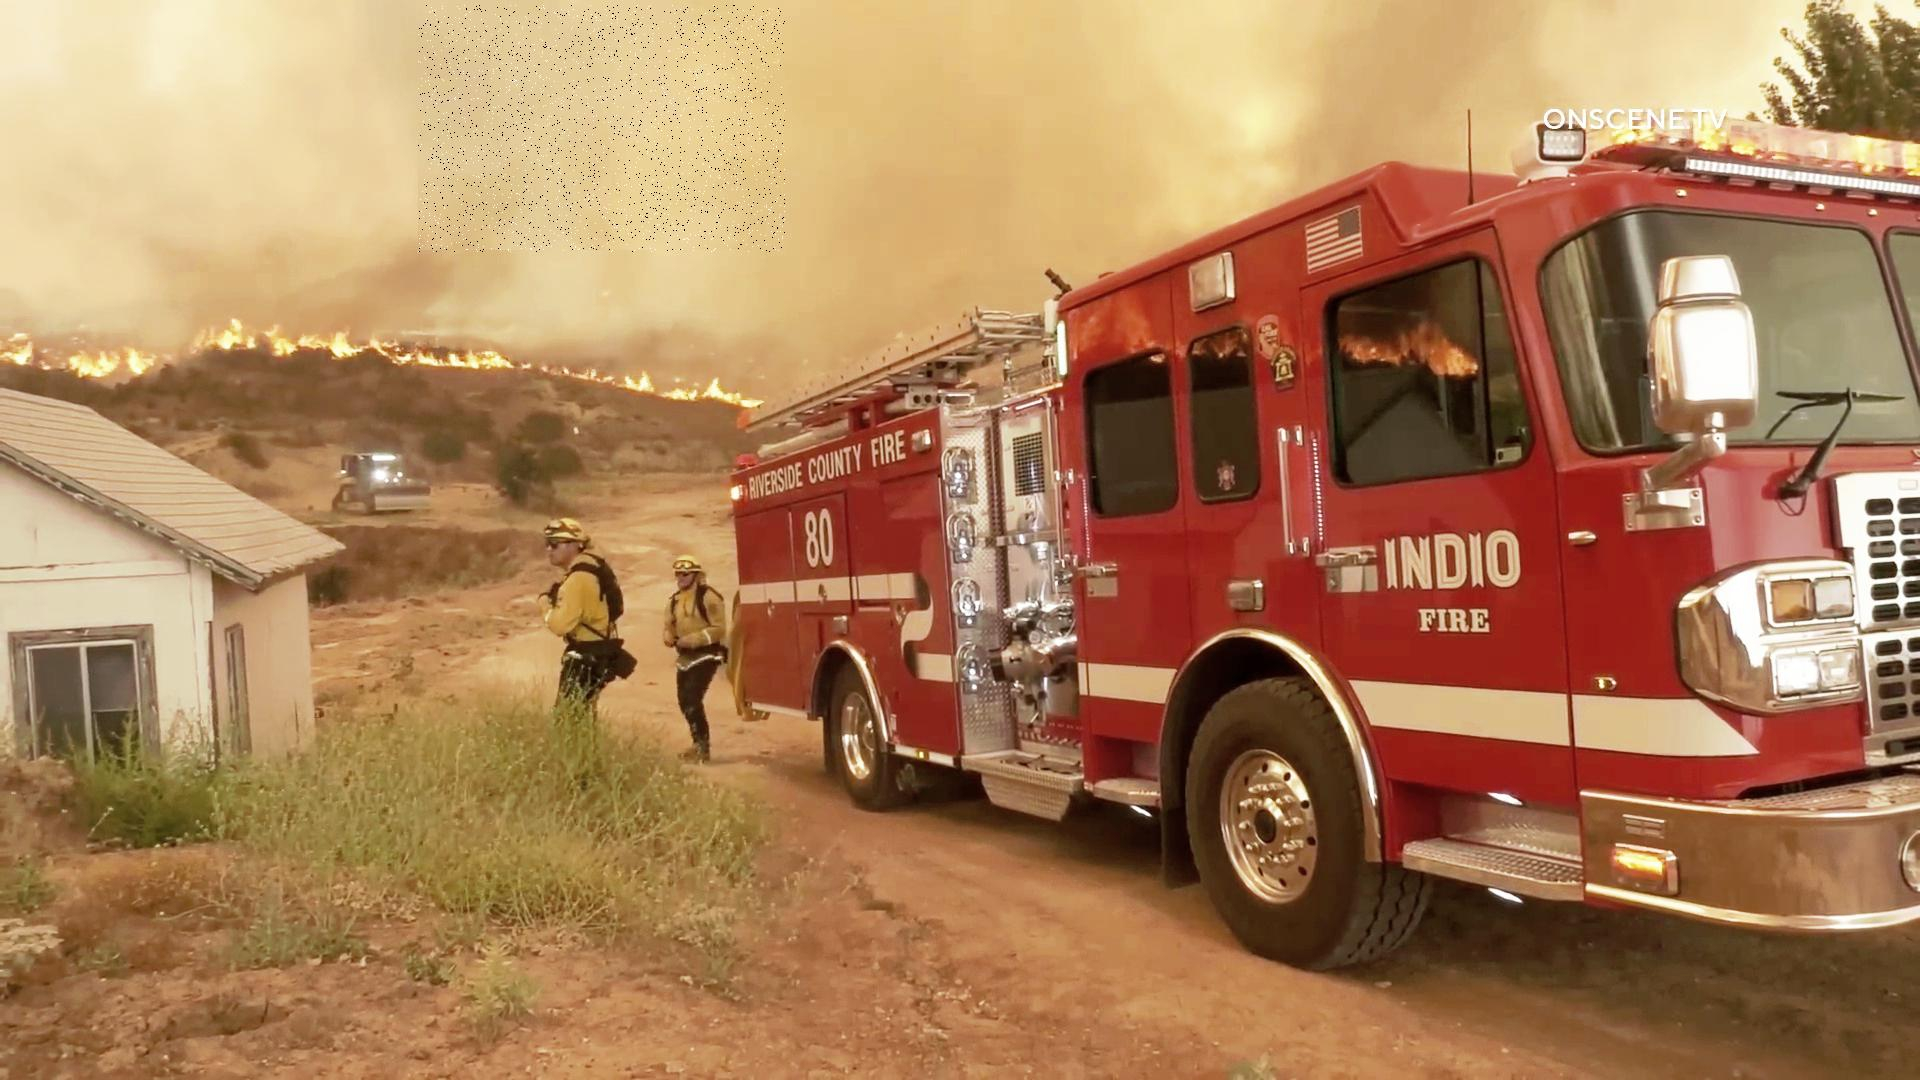smoke: (418, 5, 785, 253)
